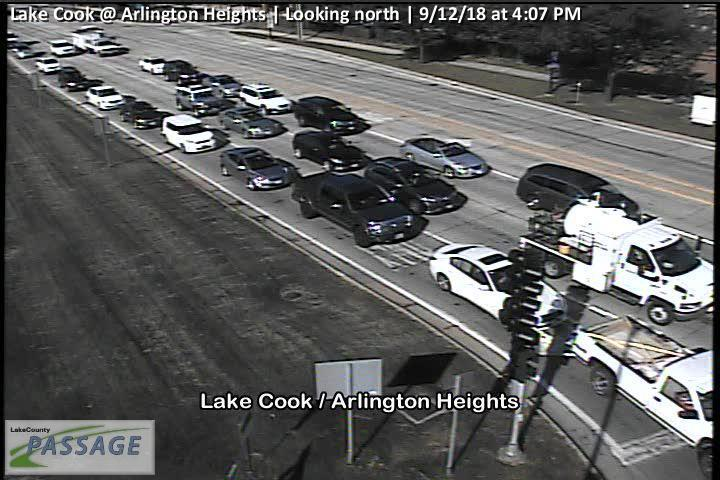SUV: (516, 163, 642, 223), (293, 95, 368, 134), (159, 114, 216, 153), (238, 82, 292, 116), (174, 79, 223, 116), (161, 59, 201, 85)
Sedan: (427, 241, 570, 334), (291, 171, 428, 248), (364, 156, 468, 218), (218, 142, 295, 192), (400, 137, 489, 178), (293, 128, 372, 174), (220, 102, 285, 139), (117, 100, 162, 130), (84, 83, 126, 111), (200, 74, 244, 97), (57, 66, 90, 92), (138, 55, 169, 74), (47, 38, 77, 57), (33, 55, 62, 74)
Truck: (517, 190, 720, 324), (565, 313, 720, 479), (69, 25, 124, 55)
